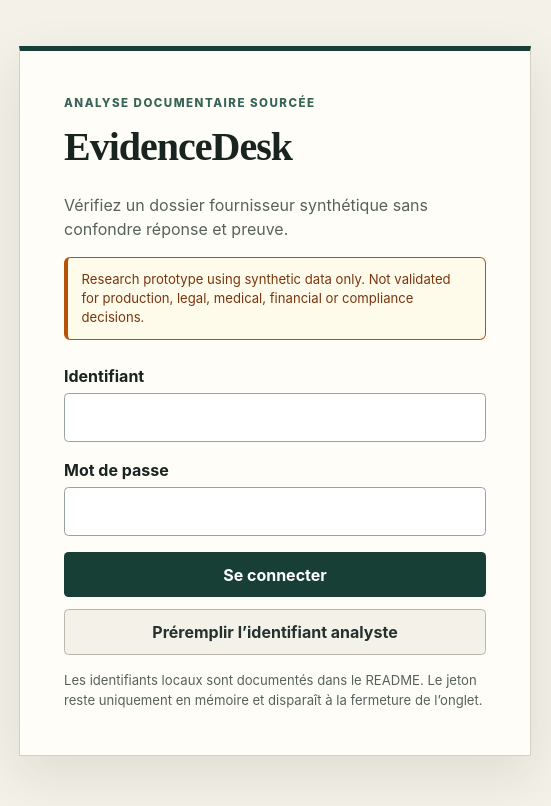
EvidenceDesk REST flow › shows a safe error when authentication is denied
Type "bad" into the field labelled "Identifiant".
click(275, 418); type("bad")  # box [64, 393, 486, 442]
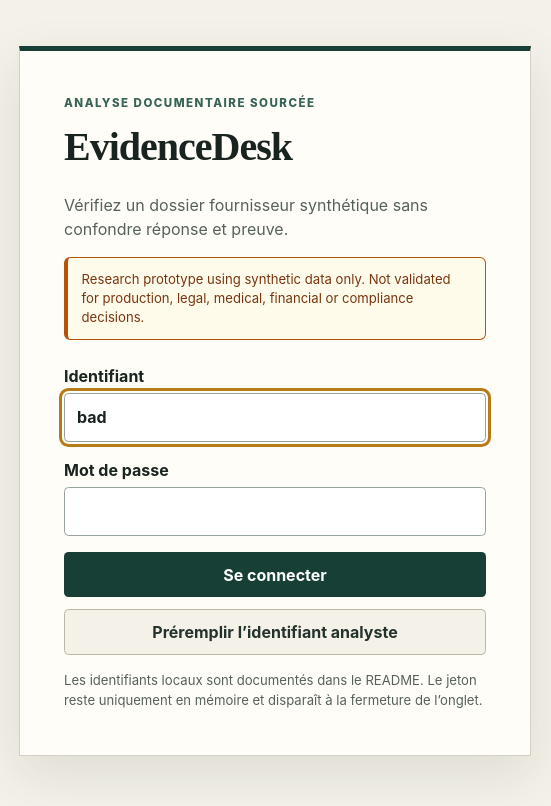
Type "bad" into the password field labelled "Mot de passe".
click(275, 512); type("bad")  # box [64, 487, 486, 536]
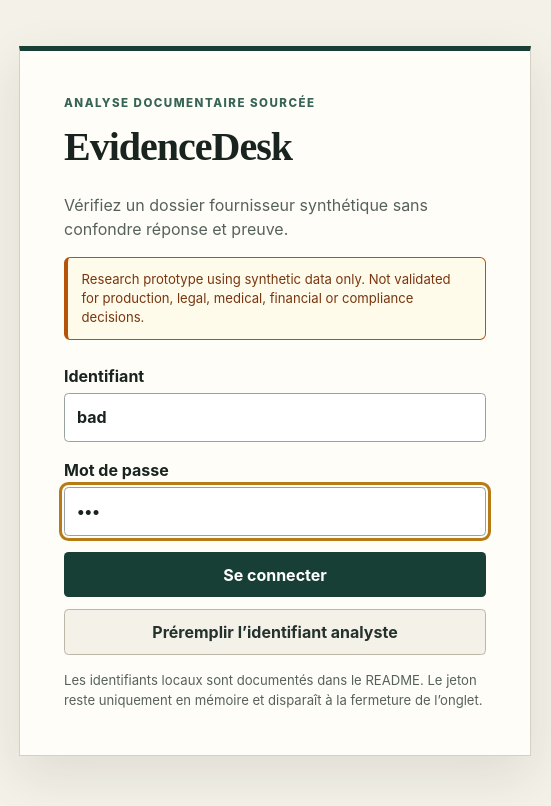
Click the button "Se connecter".
click(275, 574)  # box [64, 552, 486, 597]
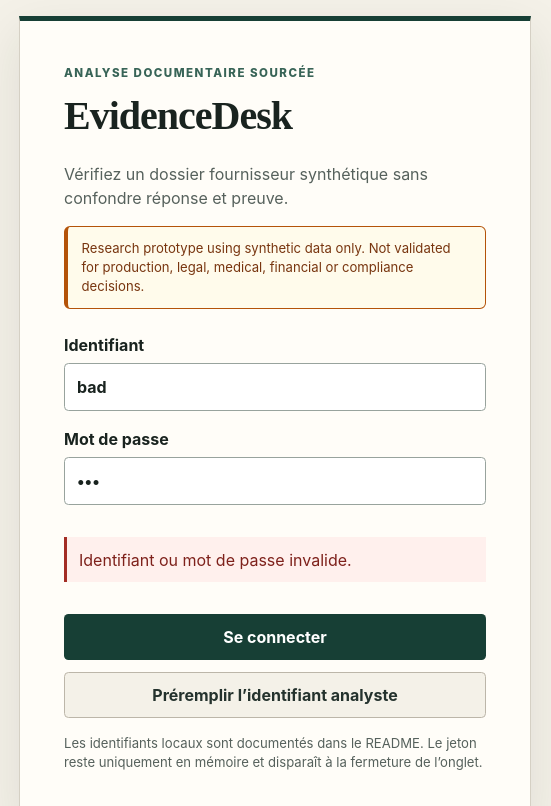
Check: the message reads "Identifiant ou mot de passe invalide.", box [79, 550, 352, 570]
